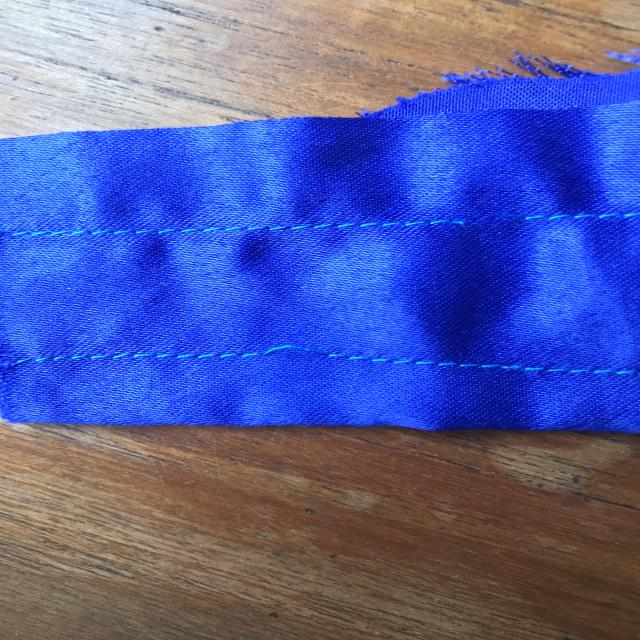broken: (417, 199, 549, 252)
good: (403, 341, 540, 390)
skip: (252, 323, 343, 381)
